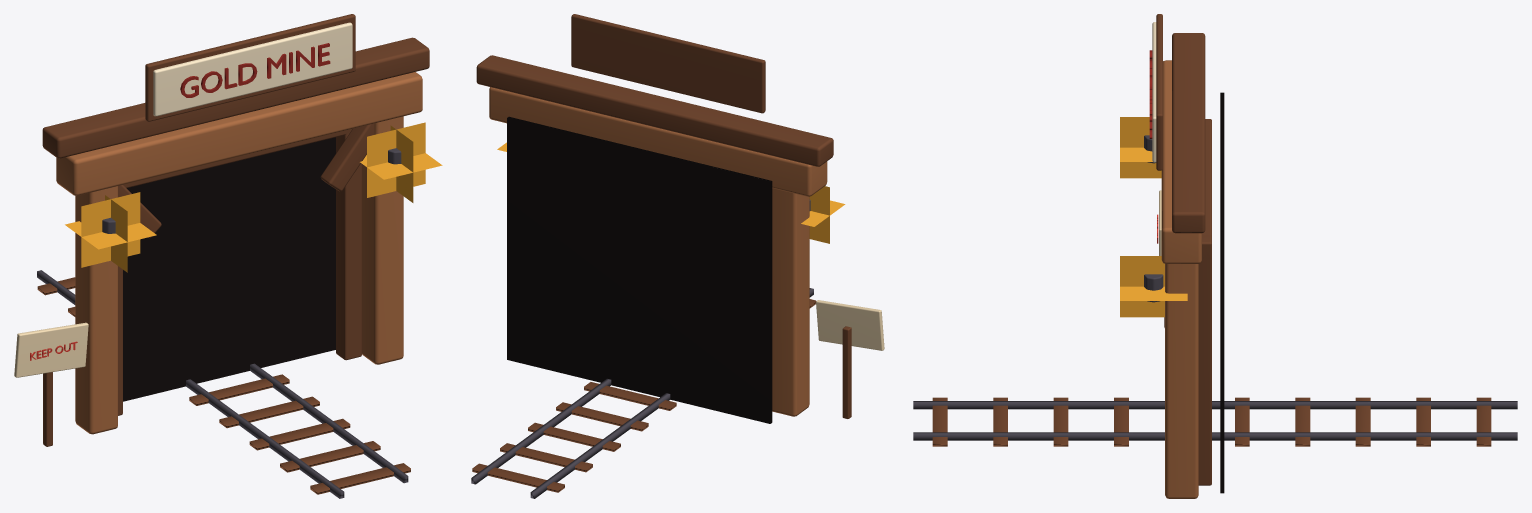
Rendered from gulch_mine_mouth.glb.
The picture shows the model from 3 angles, left to right: view 1: azimuth 30°, elevation 25°; view 2: azimuth 150°, elevation 25°; view 3: azimuth 270°, elevation 25°; orthographic projection. The views are drawn at different scales.
Visible parts, largest first — view 1: MineMouth; view 2: MineMouth; view 3: MineMouth.
Part boxes in pixels (box(x1,y1,x2,y2)): MineMouth: box(14, 14, 442, 498); MineMouth: box(471, 14, 884, 498); MineMouth: box(913, 14, 1517, 498).
Bounding box in the file's own units: 7.22 × 5.91 × 9.
